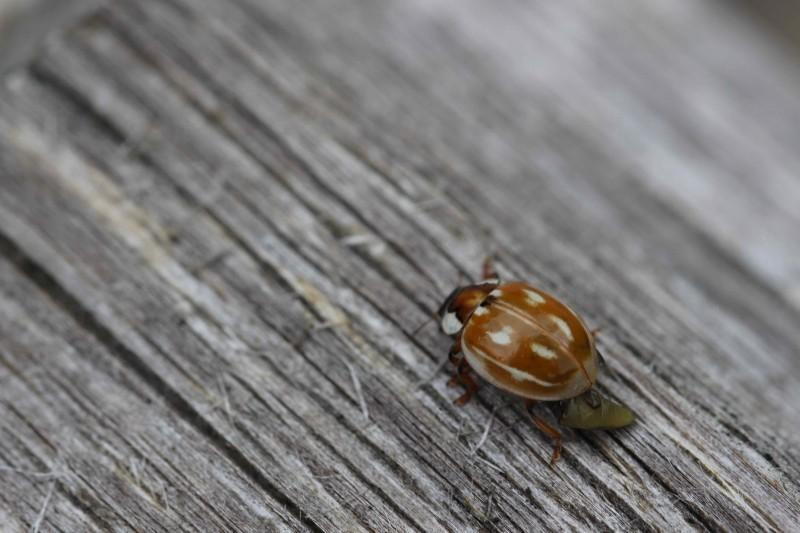ladybug: (410, 257, 610, 471)
